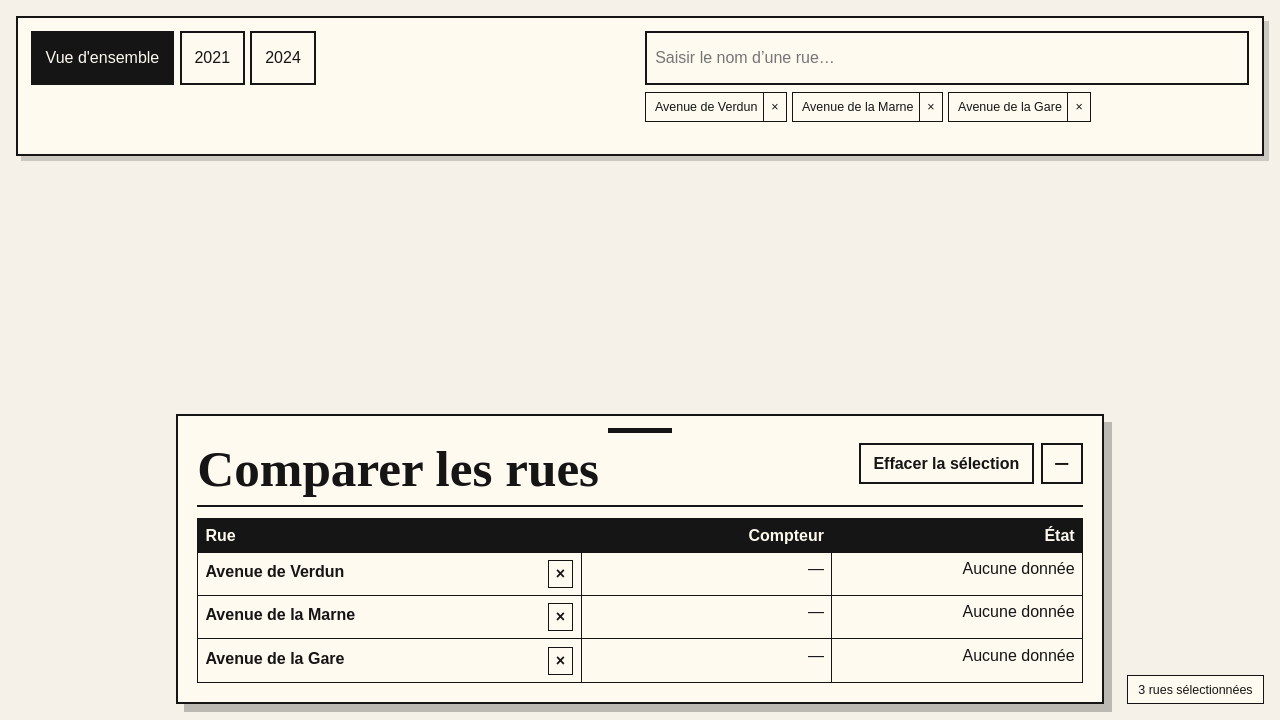
TrafficExplorer › removes a selected street from its comparison row
The image size is (1280, 720).
Click the button named "Retirer Avenue de Verdun" at coordinates (560, 574), box 548,560 -> 573,588
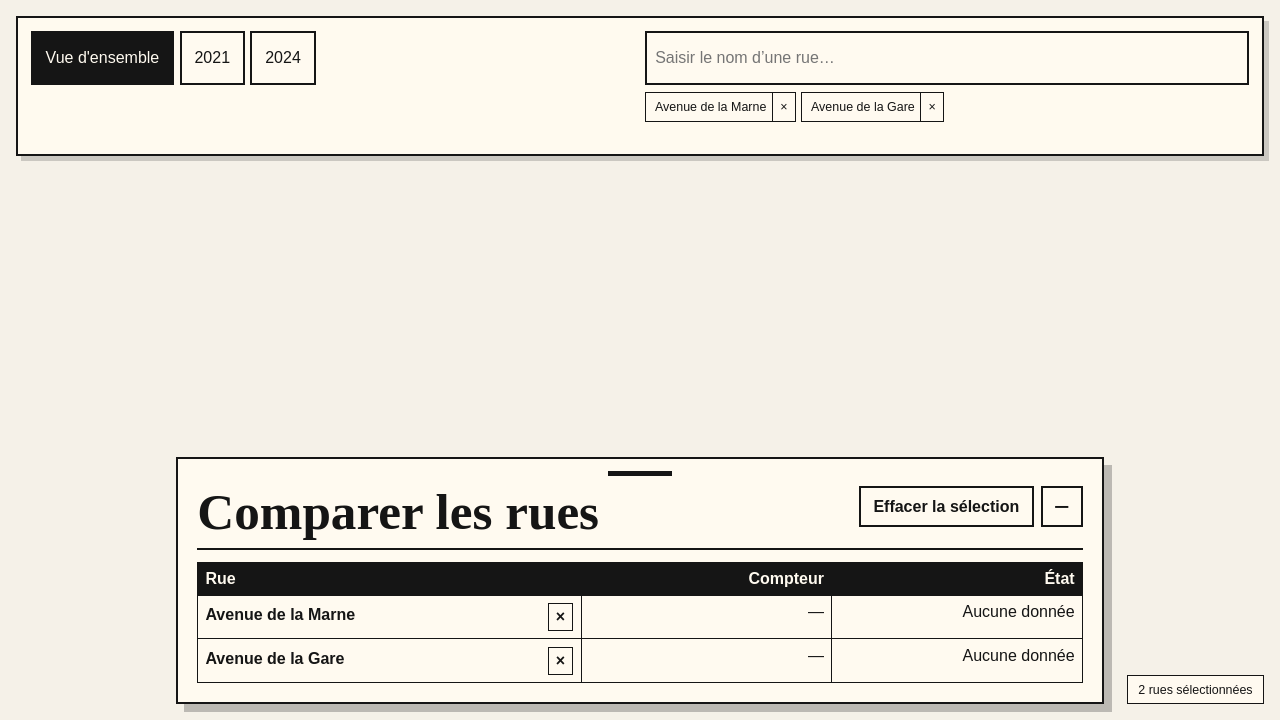
Check: the text "Avenue de Verdun" is gone
